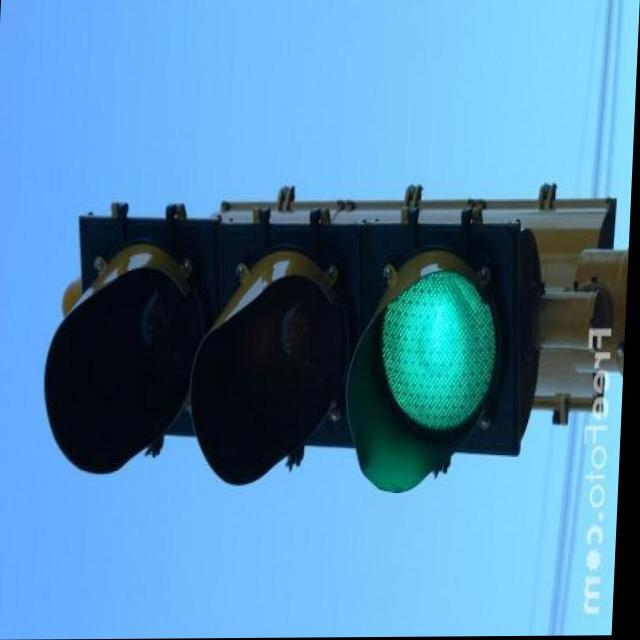green light: (44, 234, 527, 480)
